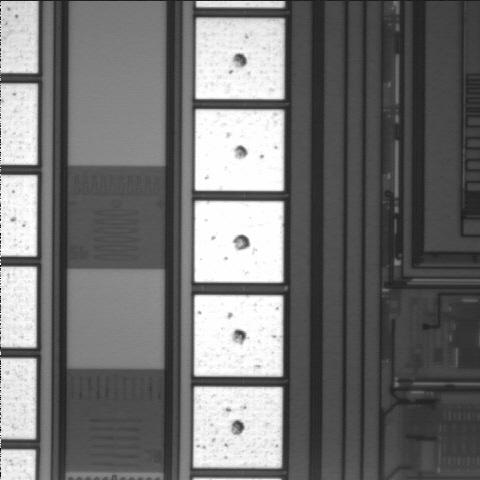pad: (194, 201, 284, 283), (195, 109, 284, 191), (194, 295, 283, 377), (195, 18, 284, 99), (193, 387, 282, 468)
